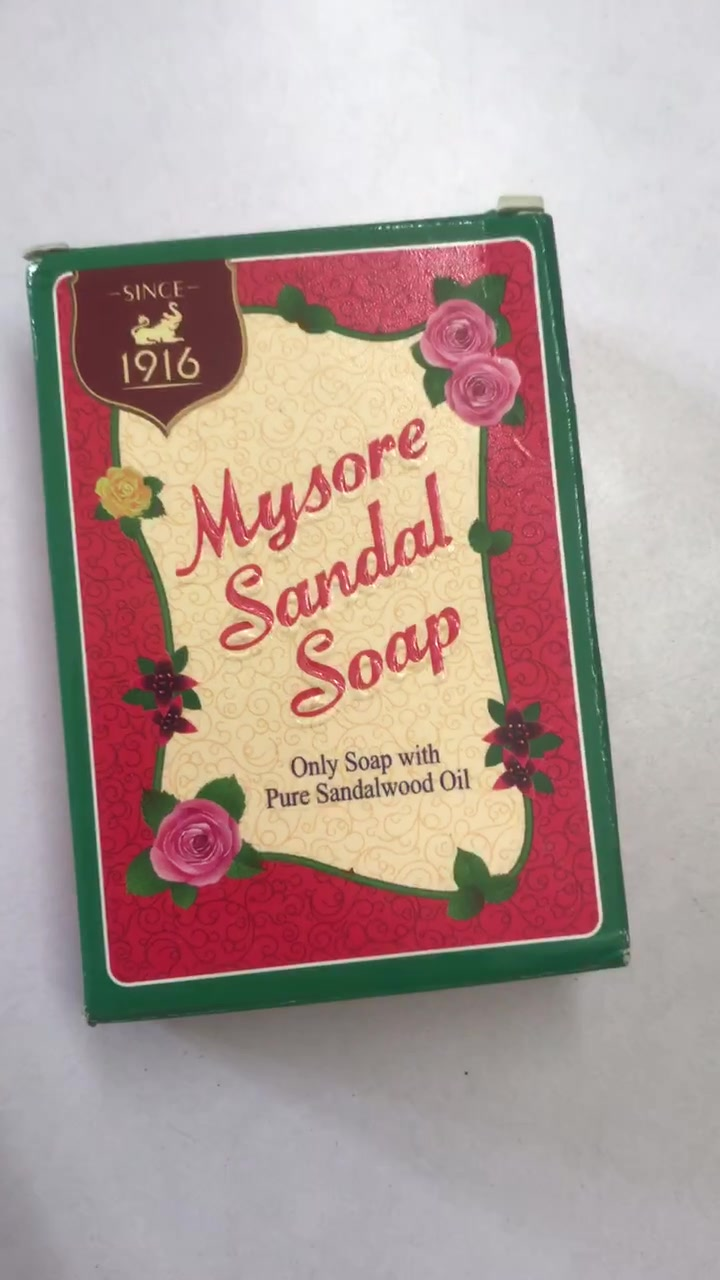mysore sandal soap: (28, 239, 630, 980)
